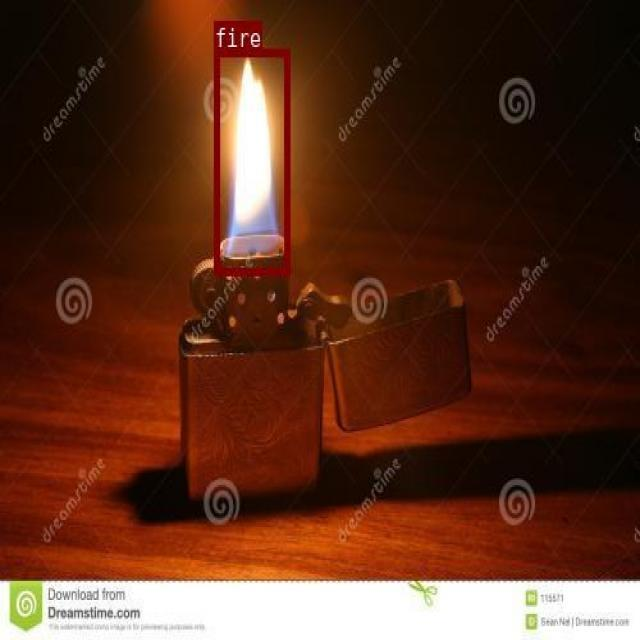fire: (214, 48, 288, 274)
